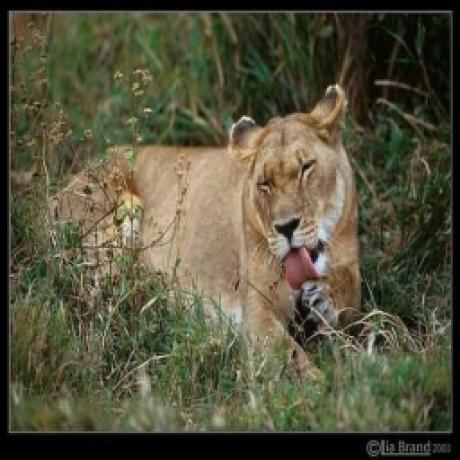Lion: (66, 80, 363, 351)
